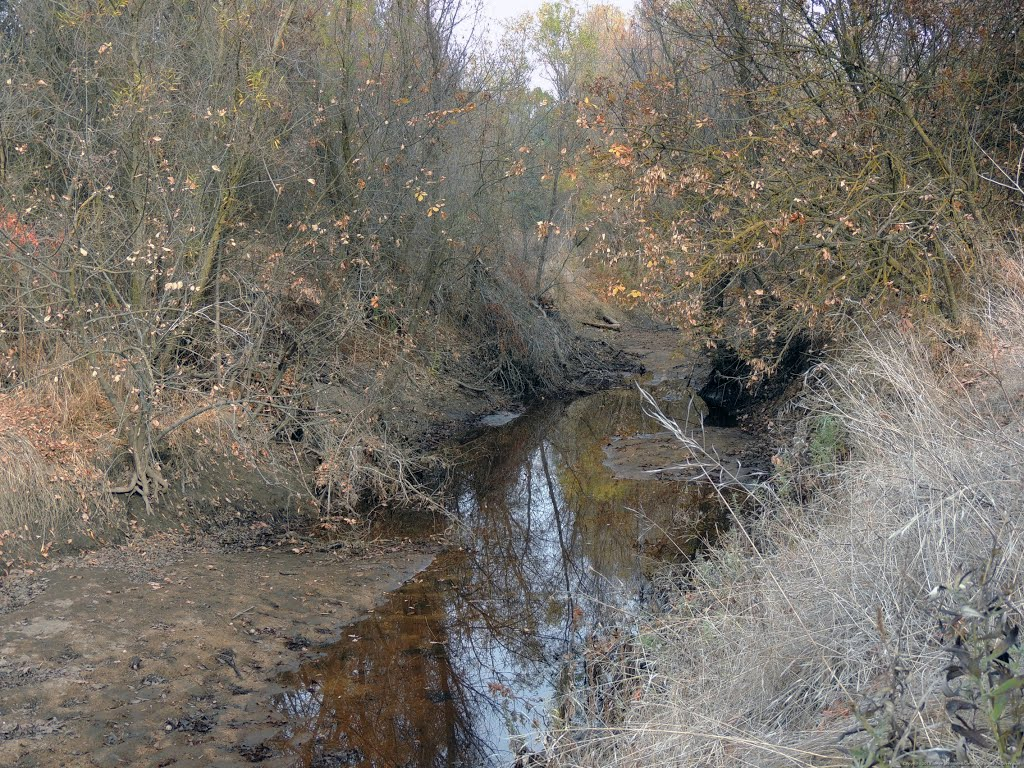vegetation: (1, 1, 417, 341), (576, 1, 1024, 297), (819, 300, 1024, 768), (621, 583, 825, 768)
water: (333, 553, 611, 760), (443, 482, 717, 575), (468, 390, 632, 494), (277, 658, 357, 768), (613, 383, 733, 429), (640, 349, 698, 393)
